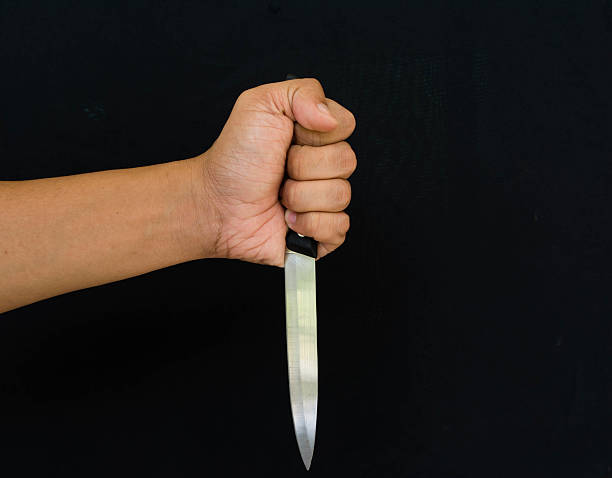knife: (282, 226, 321, 473)
